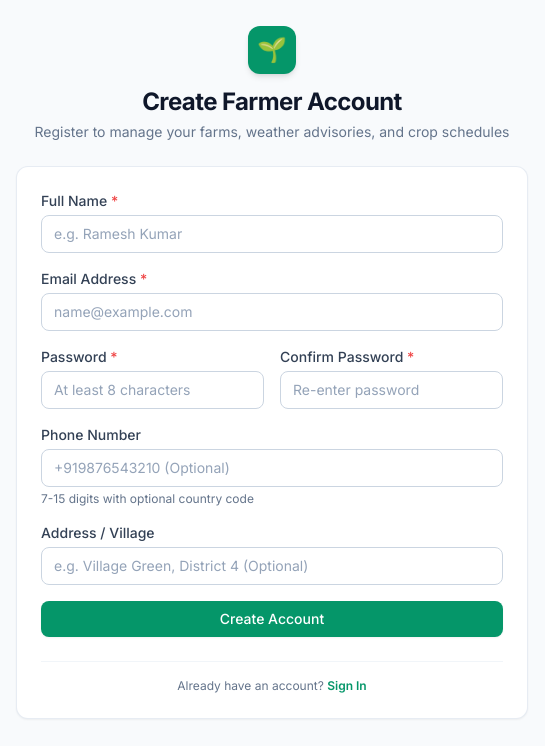
Frontend Auth & Profile Component Tests › Auth.Register.Validation: validates password mismatch and min length
Type "Ramesh" into the field labelled "Full Name *". click: (272, 234)
box: [41,214,503,252]
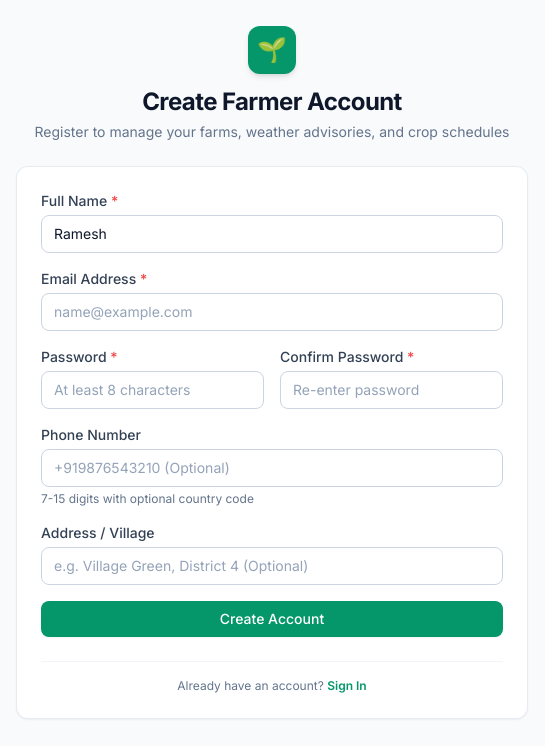
Type "ramesh@example.com" into the field labelled "Email Address *". click: (272, 312)
box: [41,292,503,330]
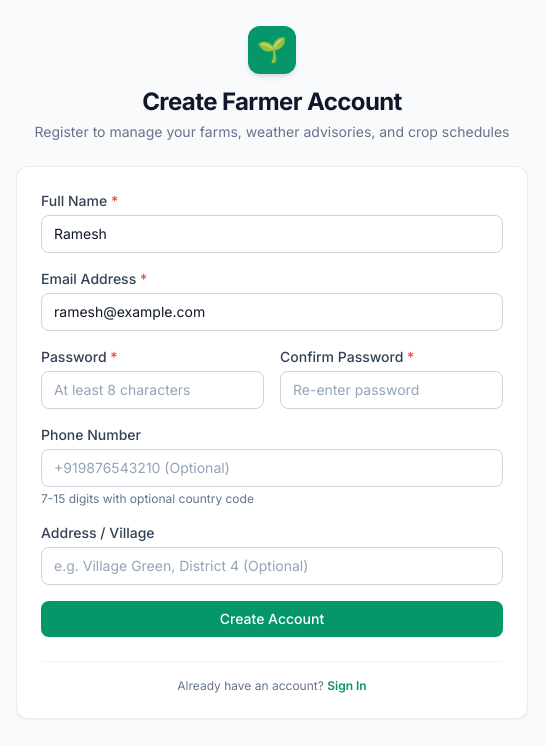
Type "Password123" into the password field labelled "Password *". click: (152, 390)
box: [41,370,264,408]
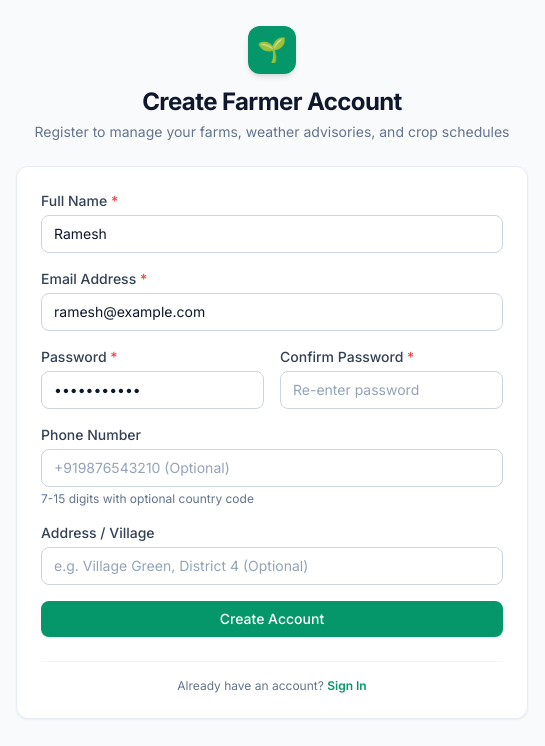
Type "DifferentPassword" into the password field labelled "Confirm Password *". click: (392, 390)
box: [280,370,503,408]
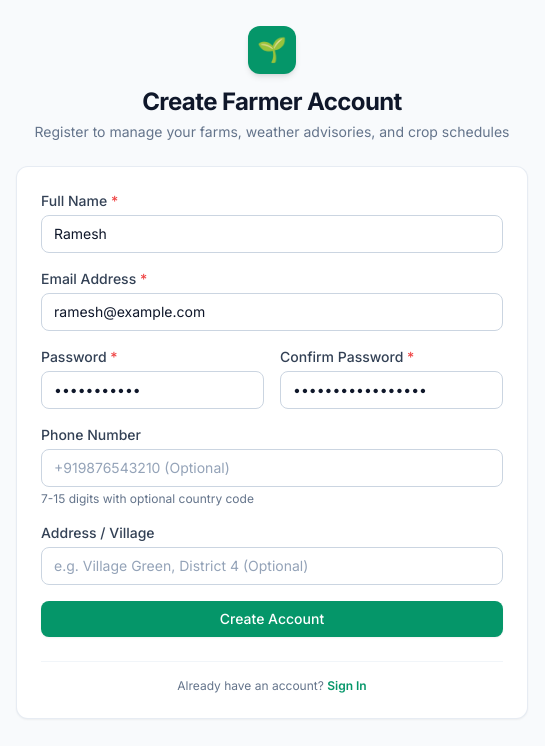
Click the button "Create Account". click: click(272, 618)
box: [41,600,503,636]
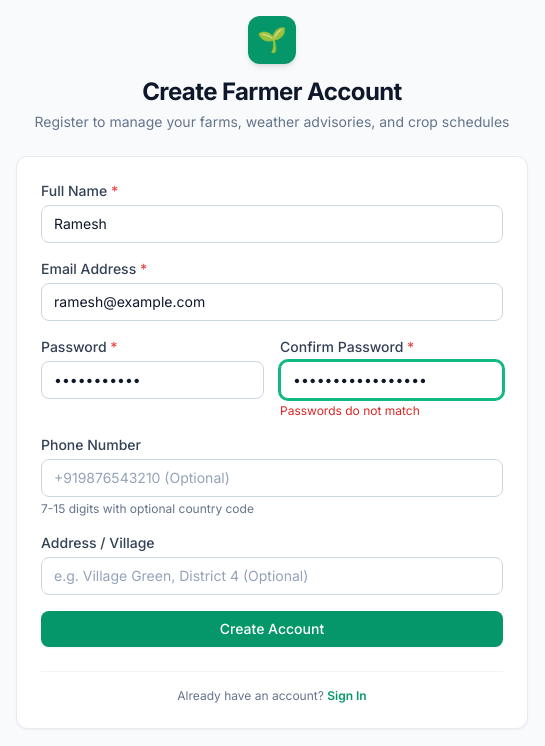
Now the text "Passwords do not match" is shown, box [280,402,420,418]
